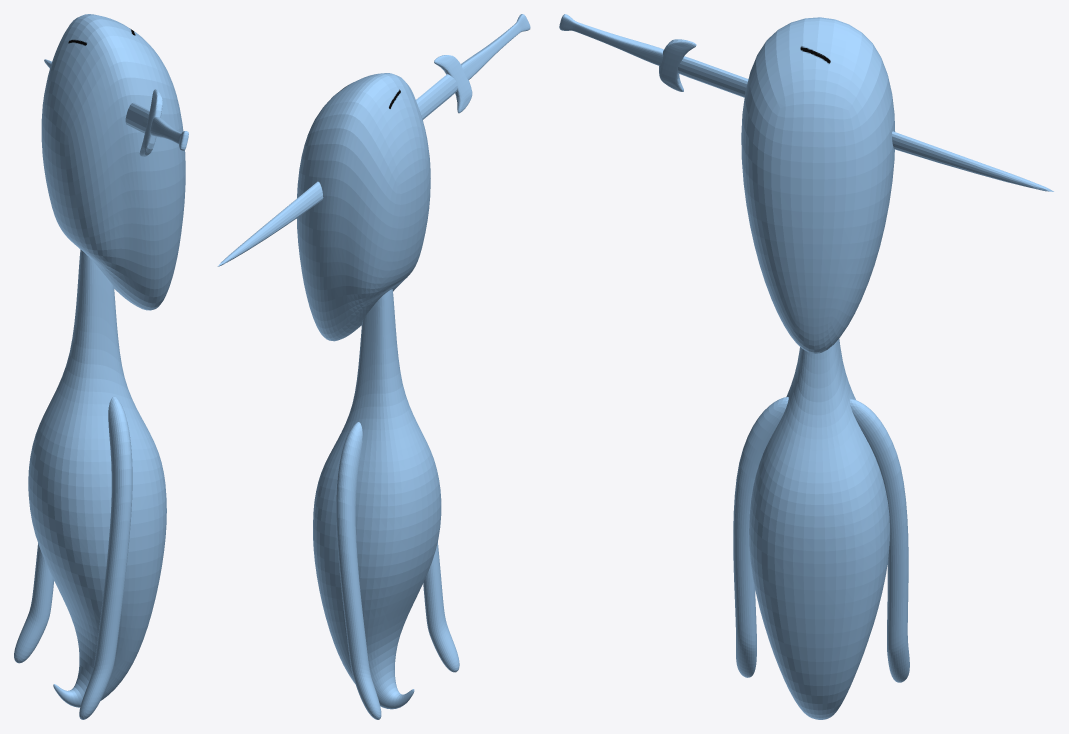
Rendered from sword swallower exported.fbx.
The picture shows the model from 3 angles, left to right: view 1: azimuth 30°, elevation 25°; view 2: azimuth 150°, elevation 25°; view 3: azimuth 270°, elevation 25°; orthographic projection. The views are drawn at different scales.
Parts seen in each view (by area): view 1: sword_swallower; view 2: sword_swallower; view 3: sword_swallower.
Boxes of the visible parts, bbox=[...] form: sword_swallower: bbox=[14, 14, 188, 719]; sword_swallower: bbox=[217, 14, 530, 719]; sword_swallower: bbox=[559, 14, 1053, 719].
Size of the model in its own units: 41.47 by 203 by 129.
1 material, 1 textured.
